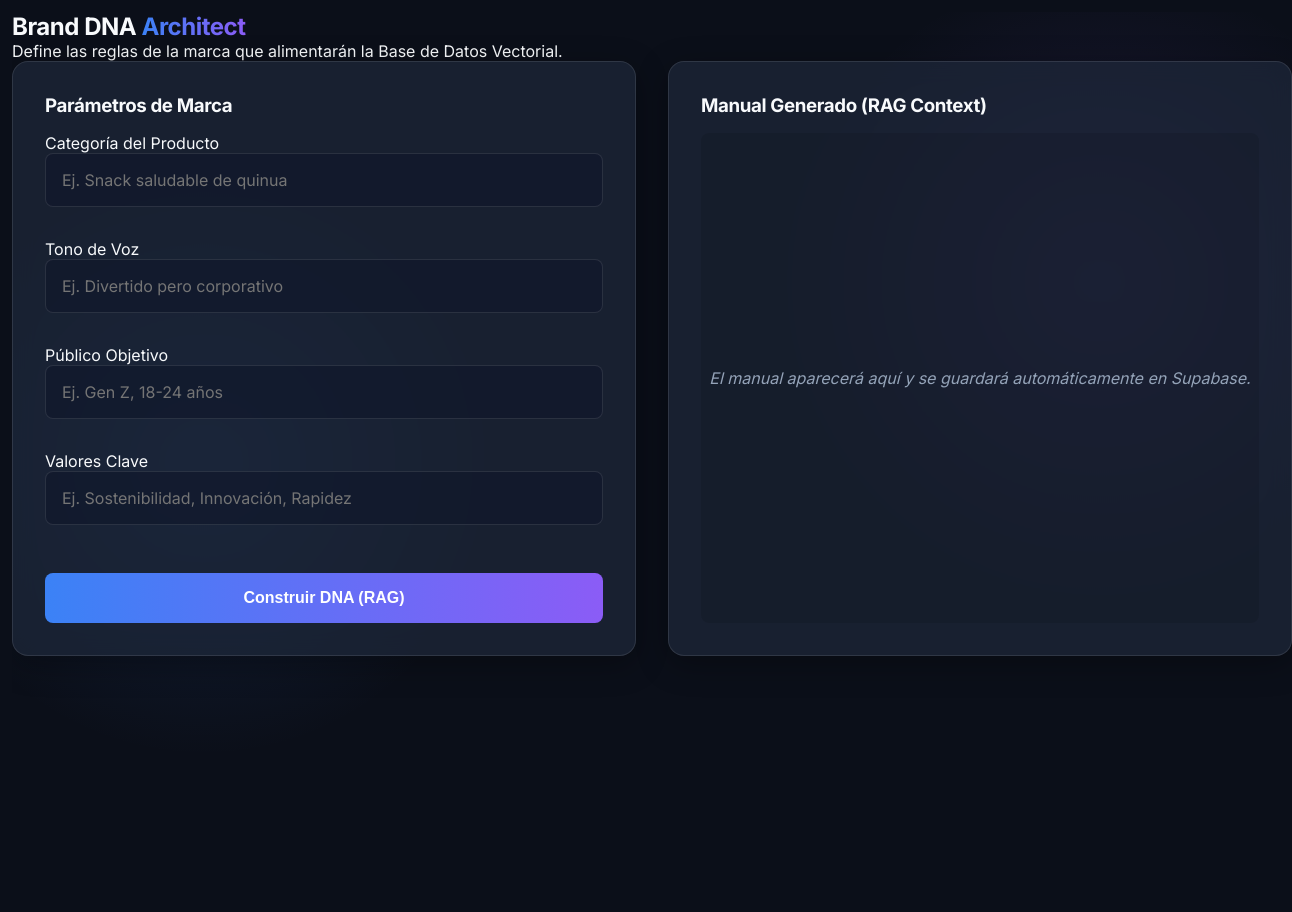
Test case: DnaArchitect Component › debería hacer submit y mostrar el manual generado
Rellenar formulario
Type "Bebida de soya" into the field with placeholder "Ej. Snack saludable de quinua" at (324, 180), box [45,153,603,207]
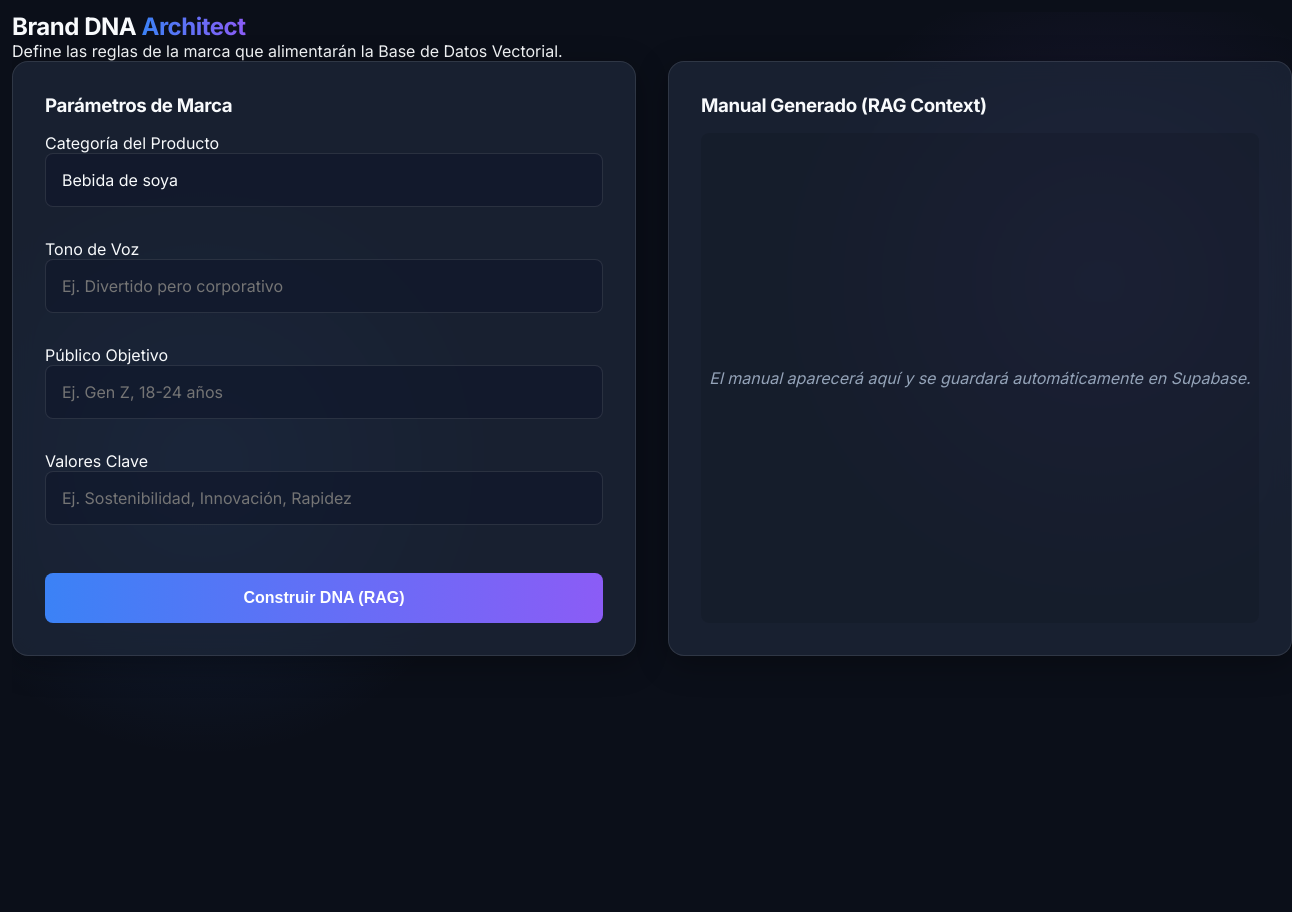
Type "Formal" into the field with placeholder "Ej. Divertido pero corporativo" at (324, 286), box [45,259,603,313]
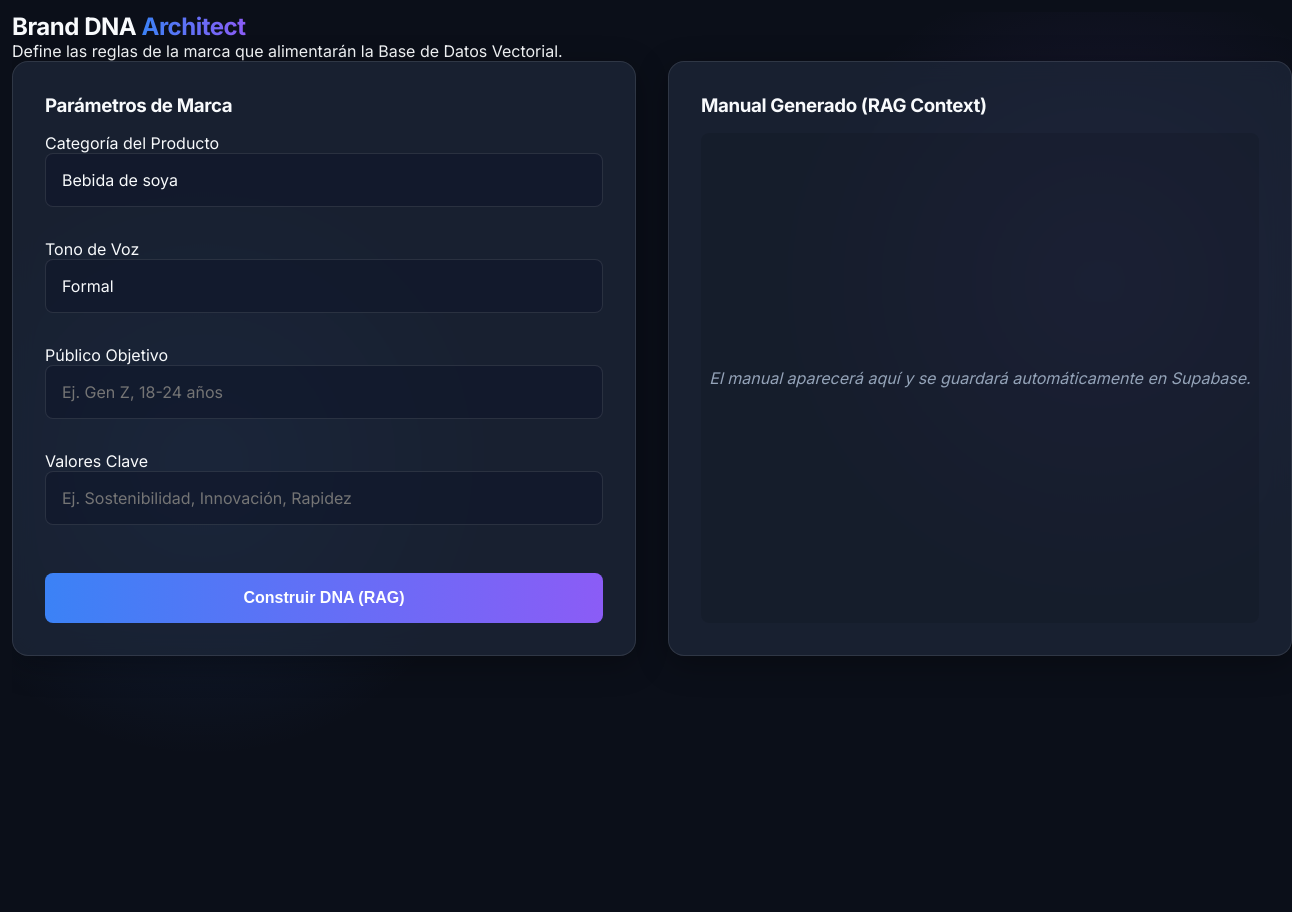
Type "Adultos" into the field with placeholder "Ej. Gen Z, 18-24 años" at (324, 392), box [45,365,603,419]
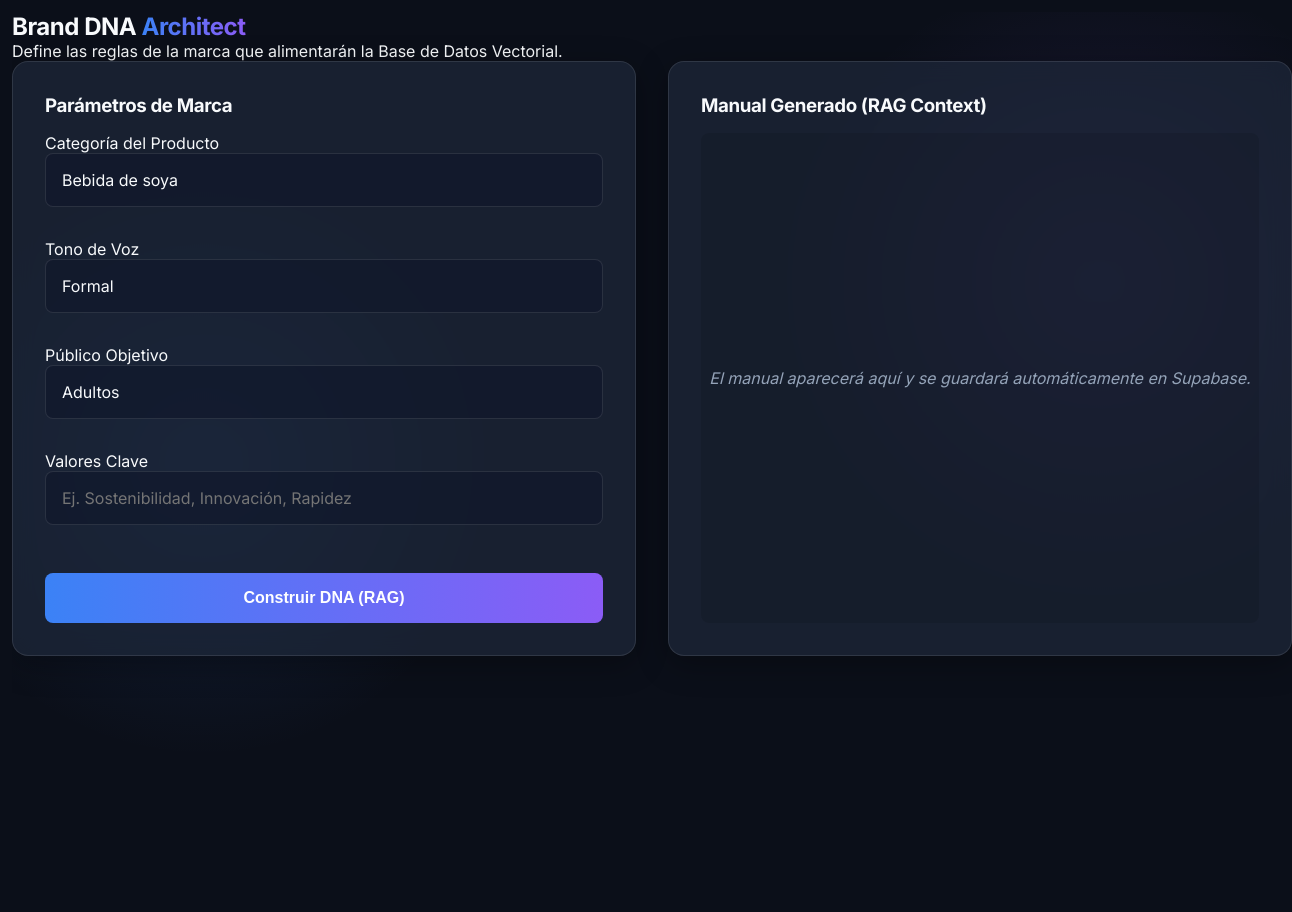
Type "Calidad" into the field with placeholder "Ej. Sostenibilidad, Innovación, Rapidez" at (324, 498), box [45,471,603,525]
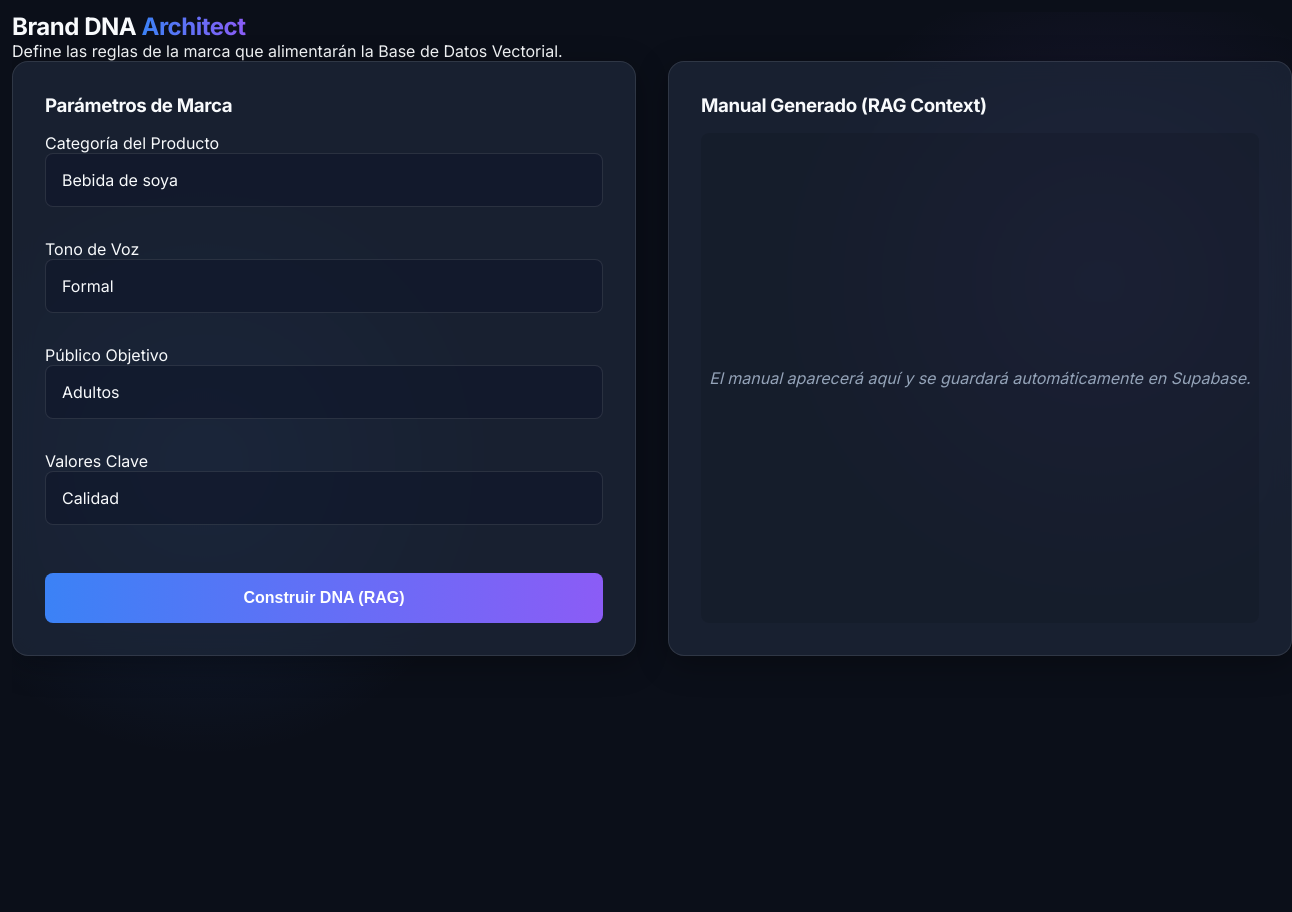
Click the button "Construir DNA (RAG)" at (324, 598), box [45,573,603,623]
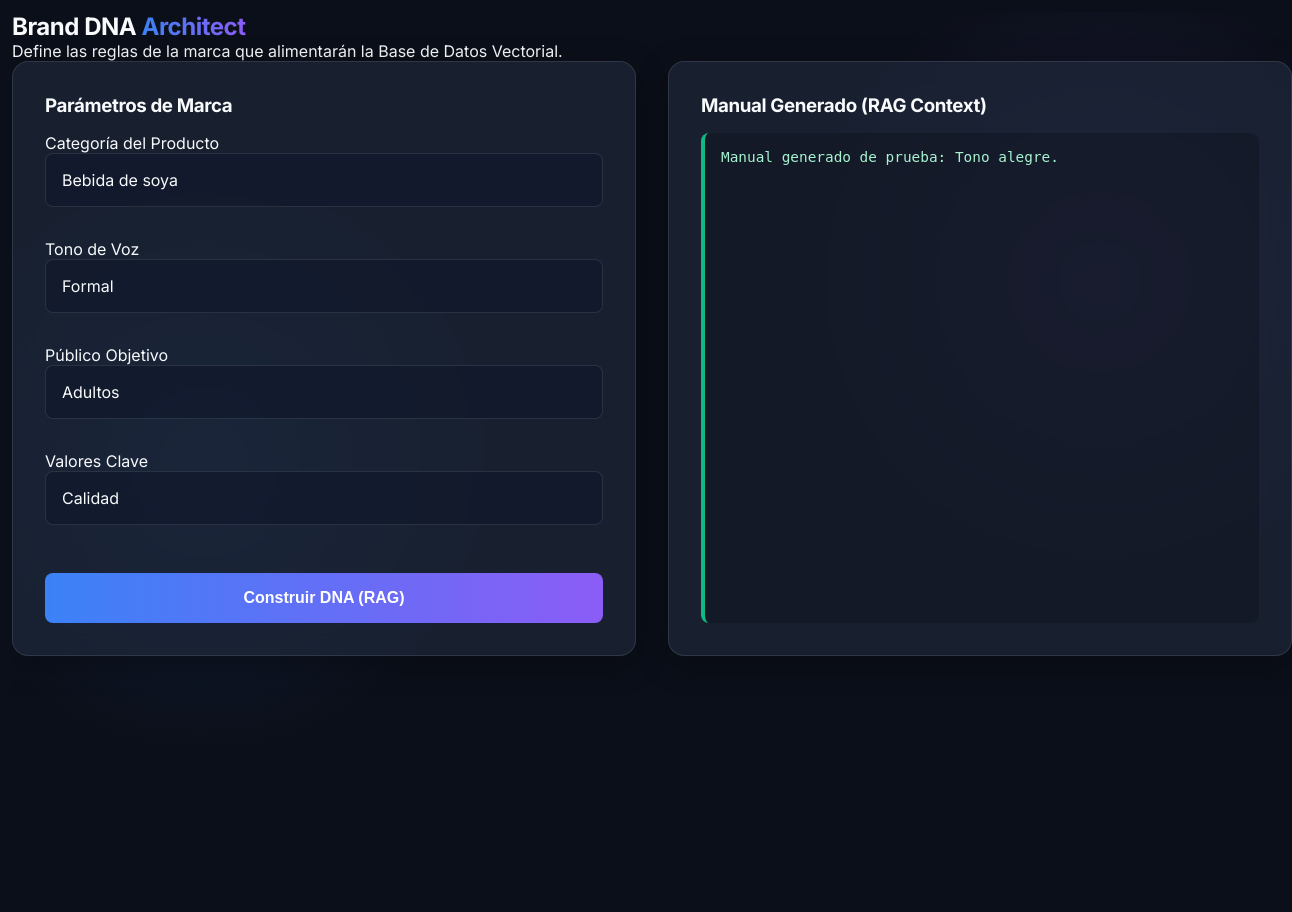
Expected: the text "Manual generado de prueba: Tono alegre." is shown, [701,133,1259,623]
